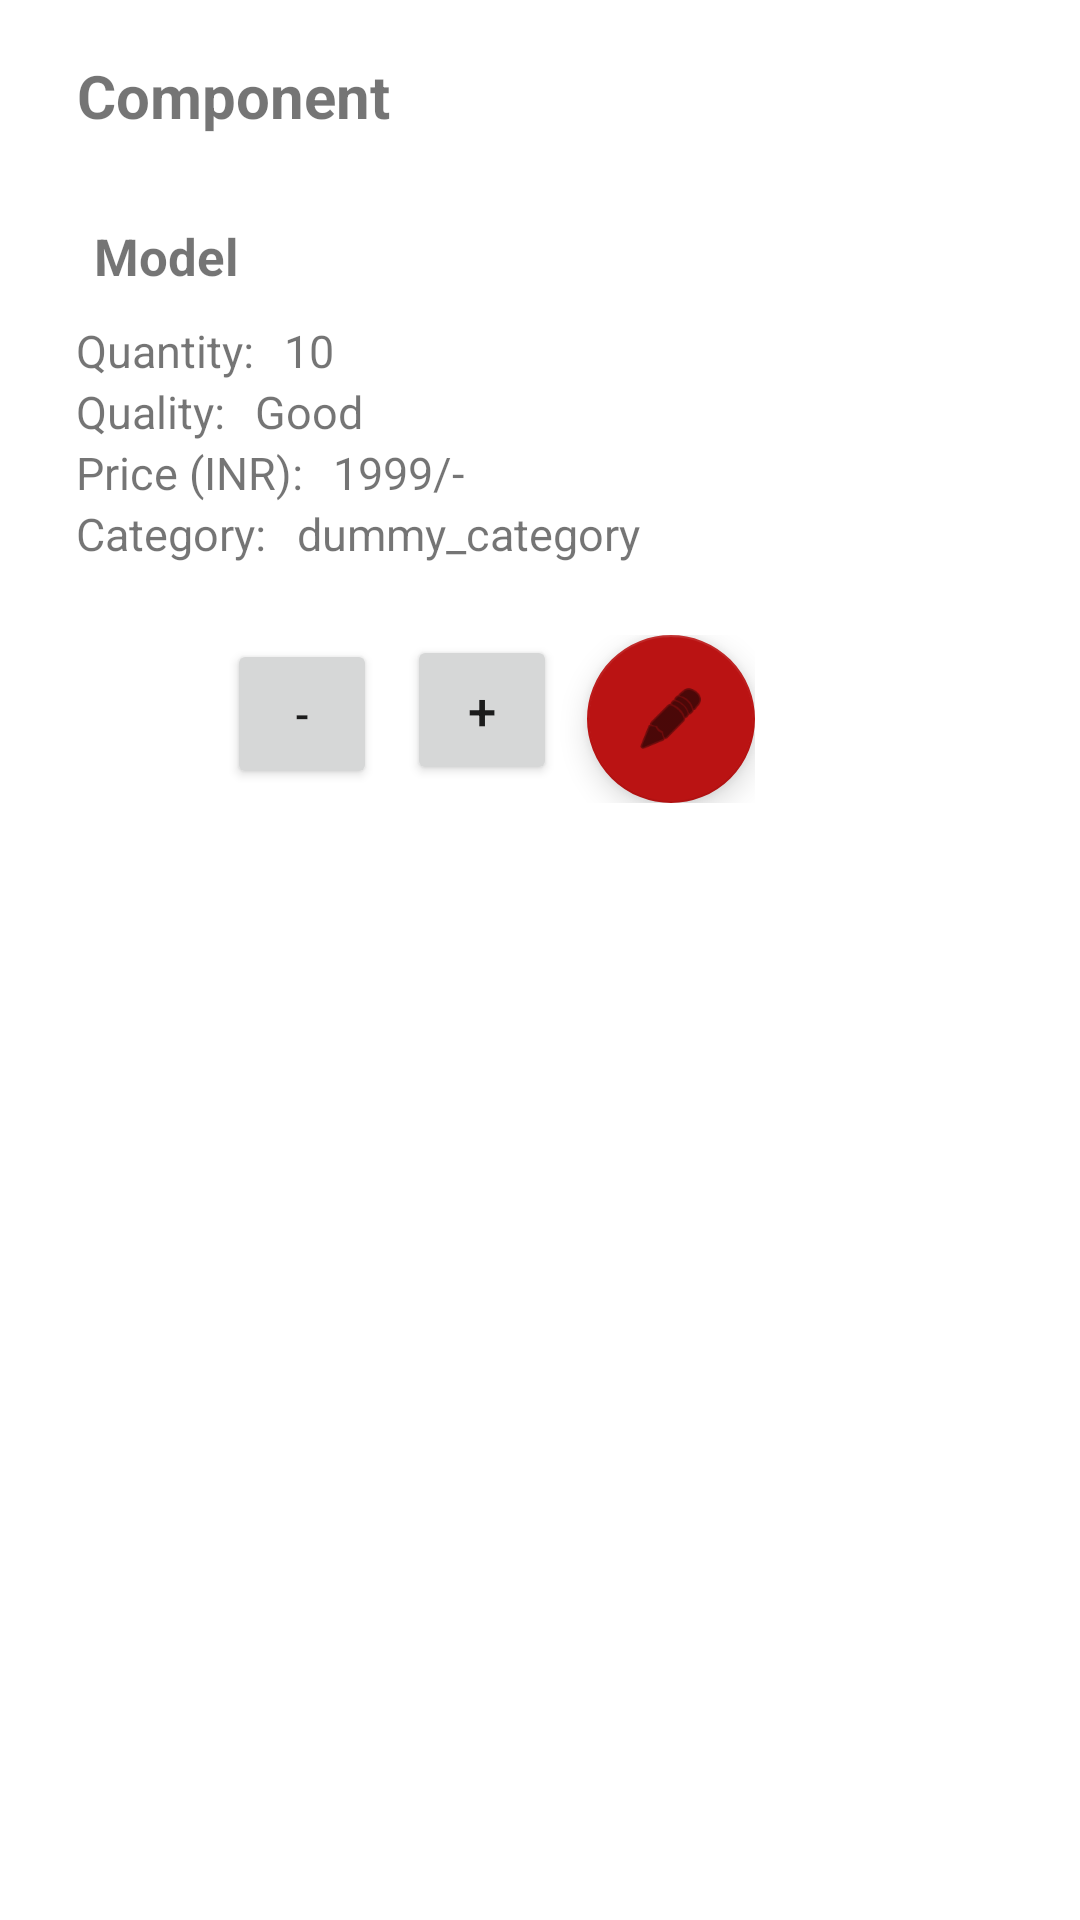

Screen size 1080x1920. Icon name, then its box in pixels as (x1,y1,x2,y2):
Edit Component Info: (587,635,755,803)
